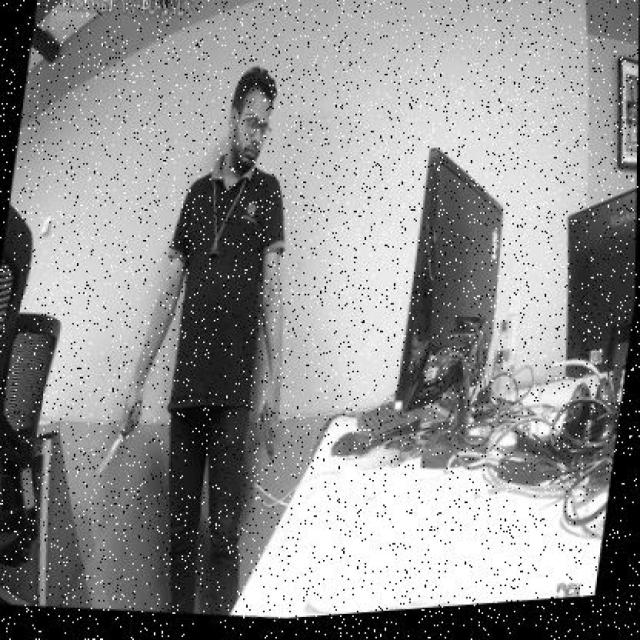weapon: (258, 405, 282, 463)
